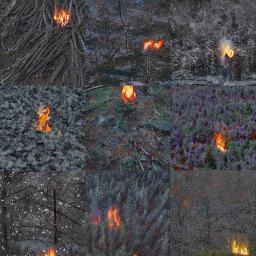Small fire: (230, 237, 256, 256), (34, 106, 51, 131), (53, 6, 71, 26), (101, 207, 119, 223), (217, 42, 233, 59), (143, 37, 162, 51), (118, 81, 134, 97), (215, 132, 227, 153), (40, 242, 55, 256)
